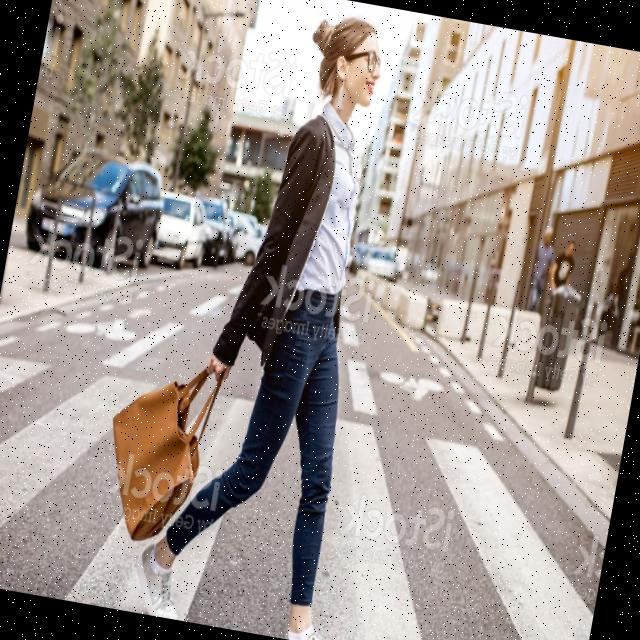Person: (80, 0, 459, 640)
